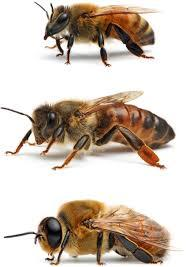Apis-mellifera-scutellata: (3, 91, 184, 174), (5, 198, 182, 264), (37, 0, 160, 68)
